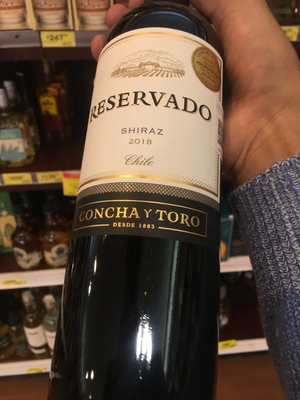reservado shiraz: (74, 22, 228, 400)
